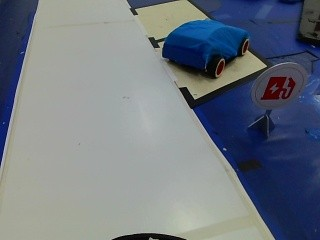battery: (257, 67, 301, 108)
car: (153, 14, 253, 87)
